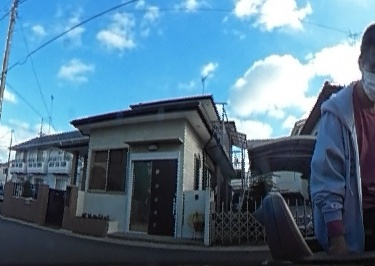person: (317, 26, 375, 258)
